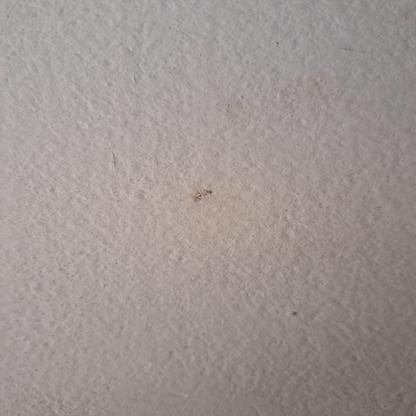spot: (187, 184, 219, 202)
